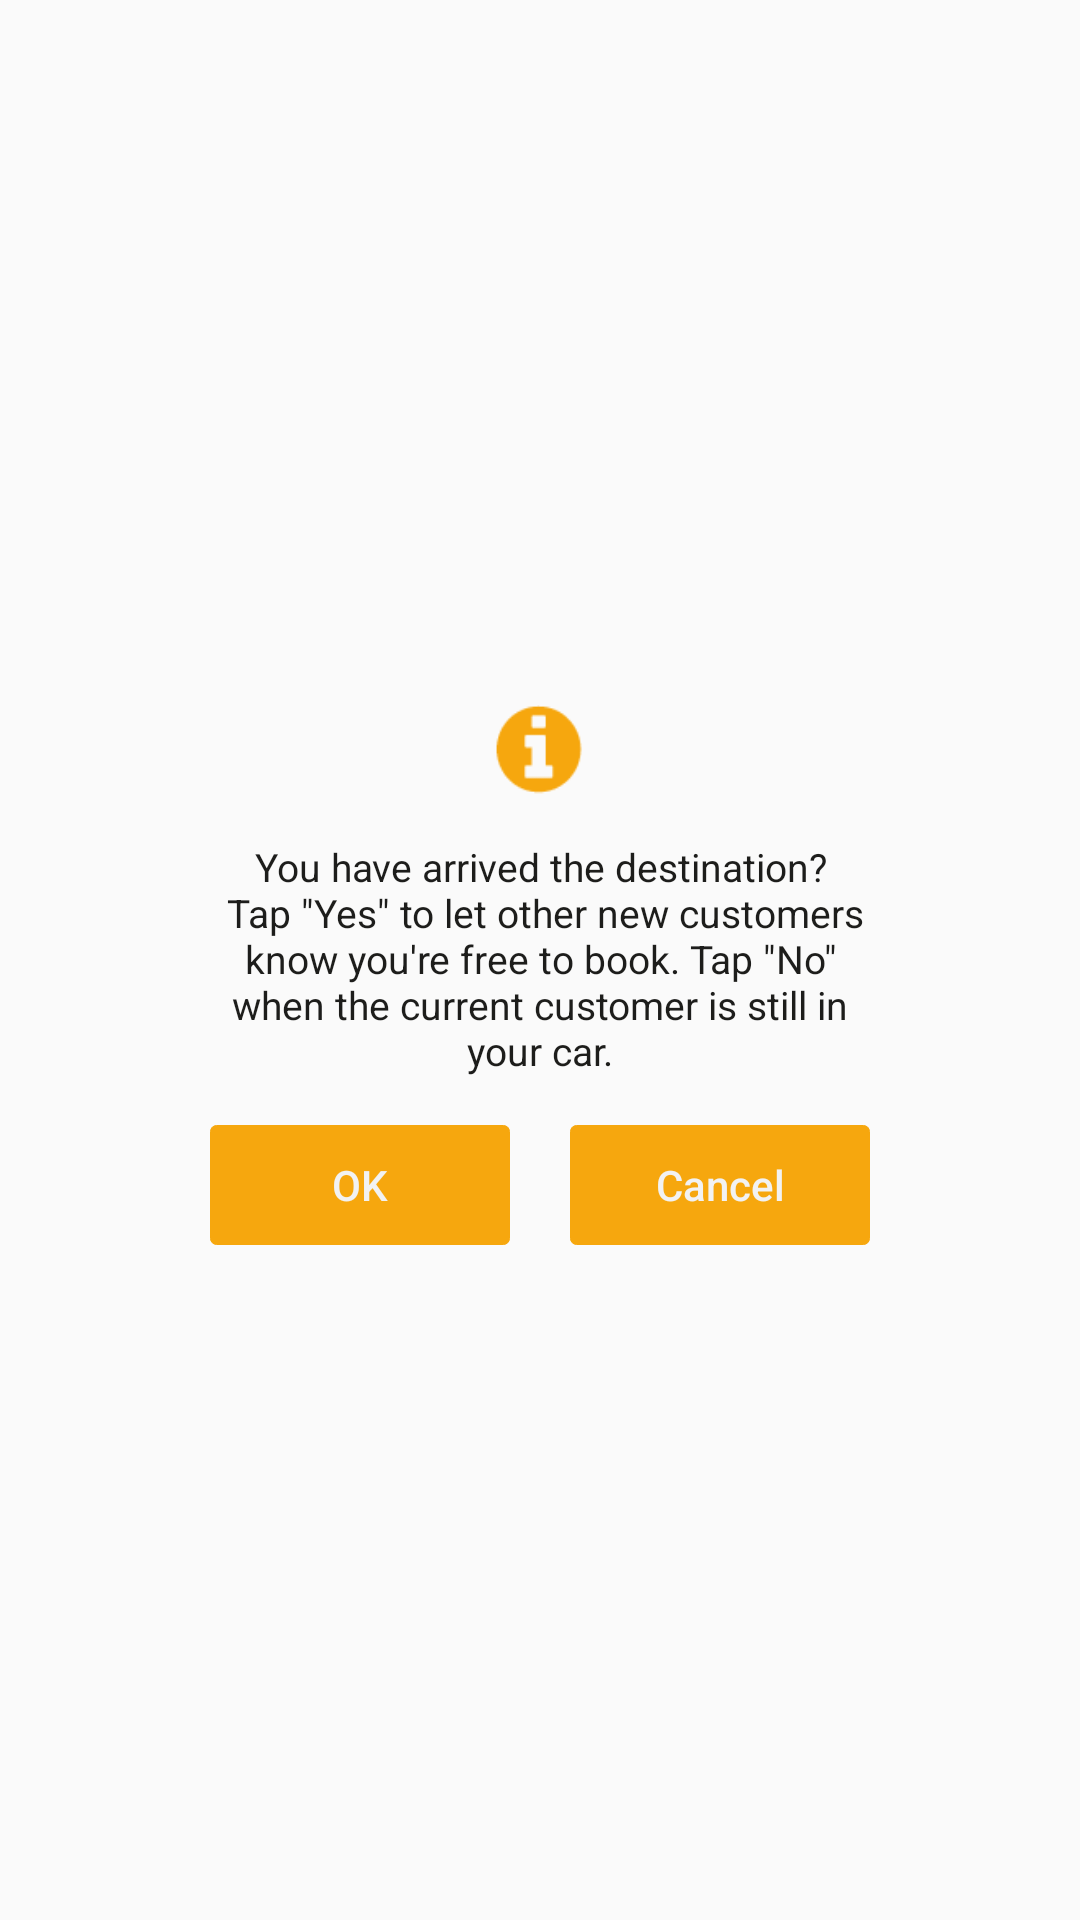

Locate icon controls on the screen. Image size 1080w x 1920h, boxes as (x1, y1, x2, y2).
info: (496, 705, 582, 794)
